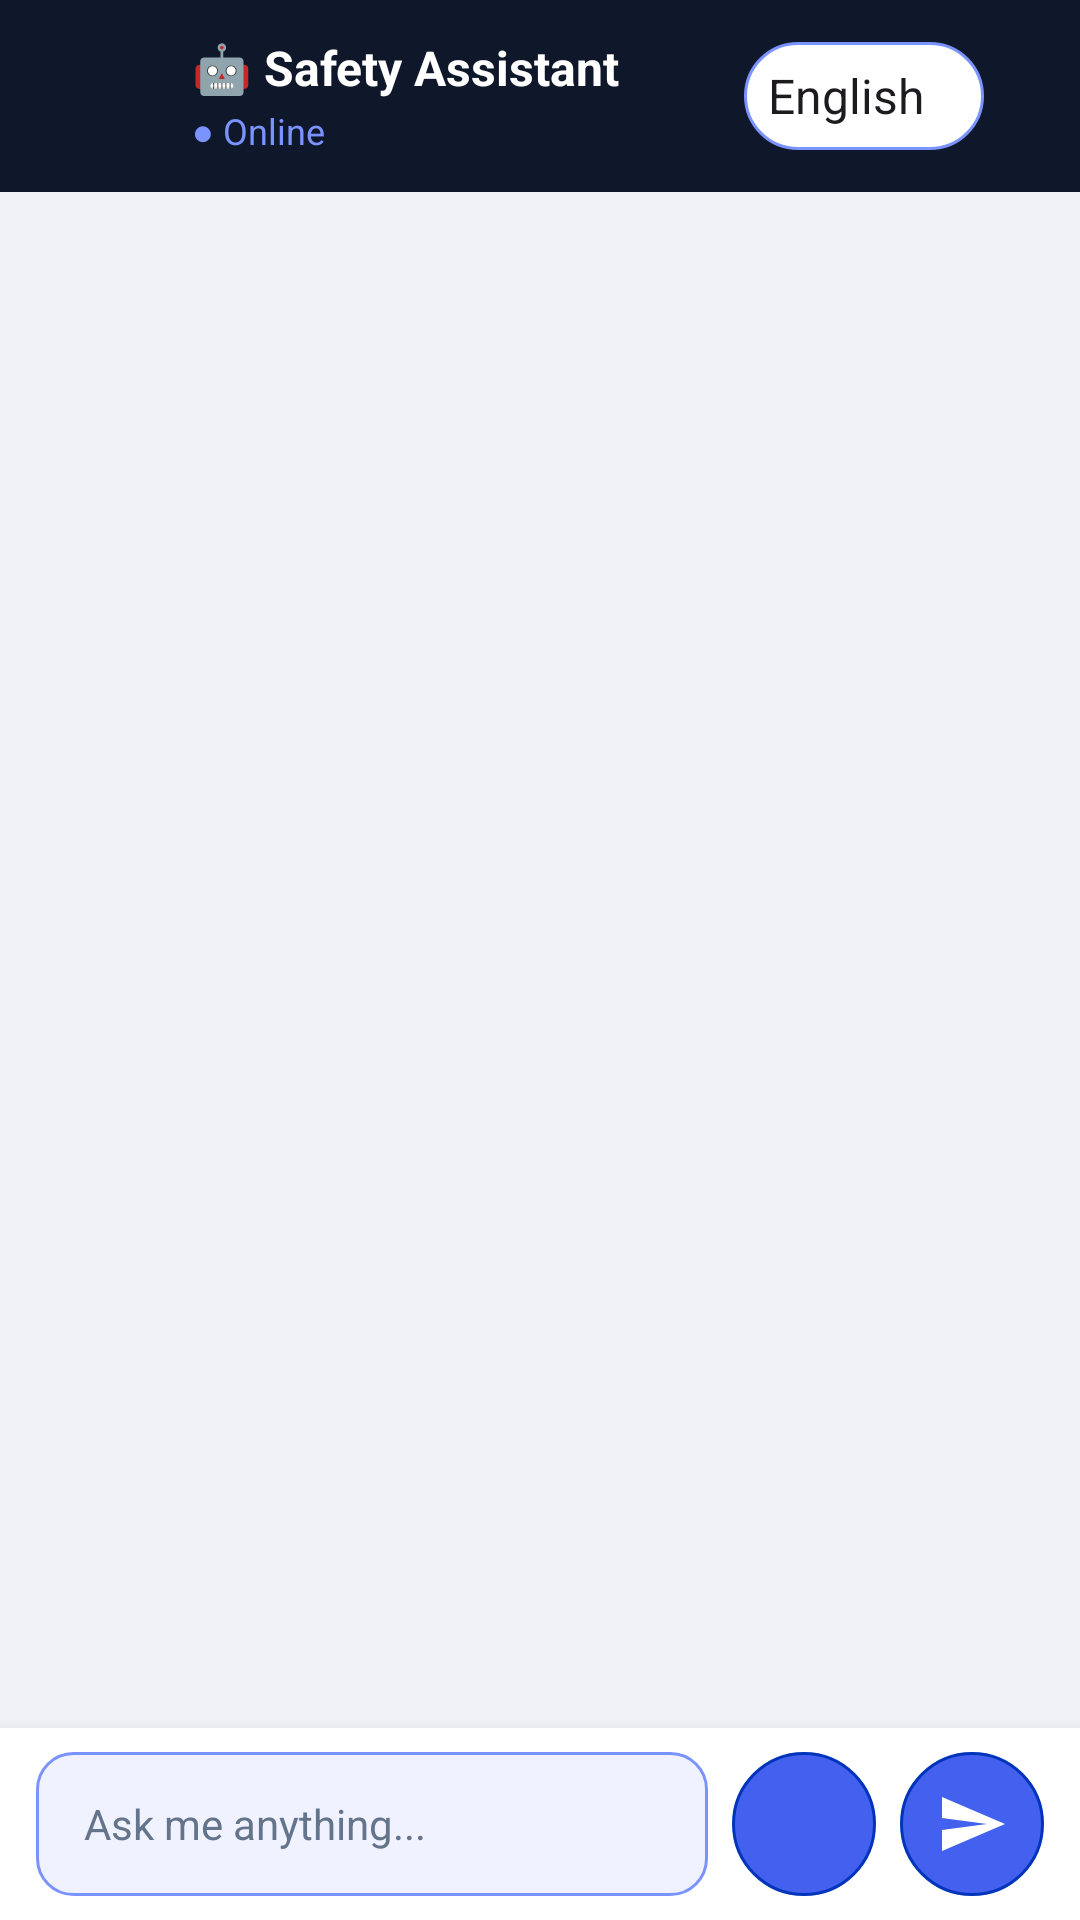

Named icons in this screenshot (1080 x 1920) and their centers, [x,y]:
Send: [972,1824]
